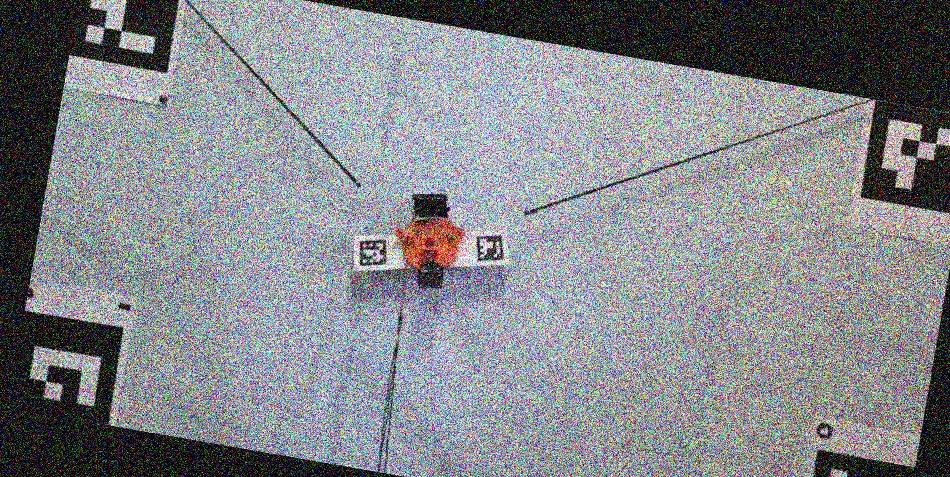robot: (395, 193, 463, 290)
